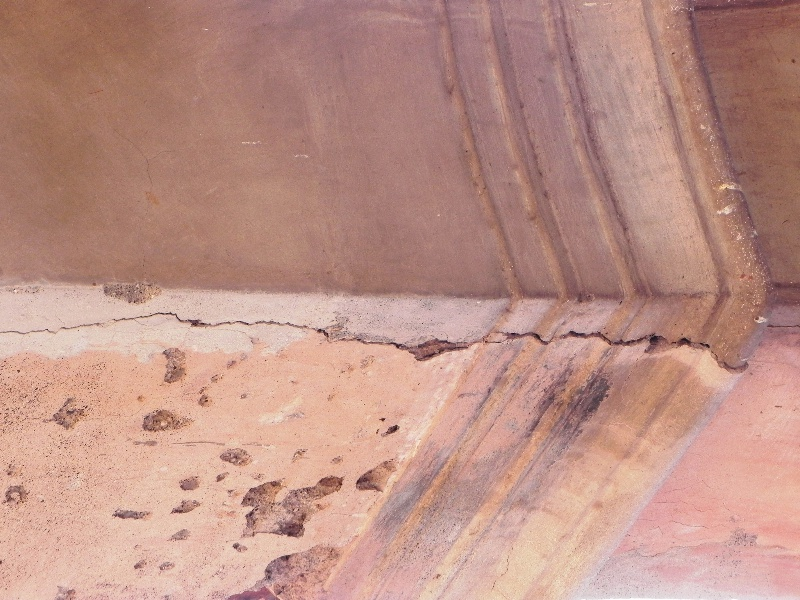Crack: (1, 304, 756, 384)
Spalling: (218, 442, 408, 542), (249, 546, 345, 598), (138, 405, 192, 435)
